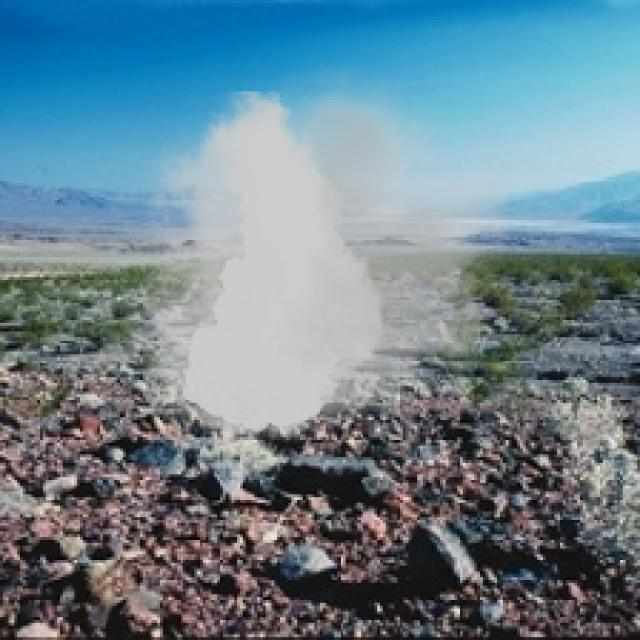smoke: (111, 66, 534, 457)
